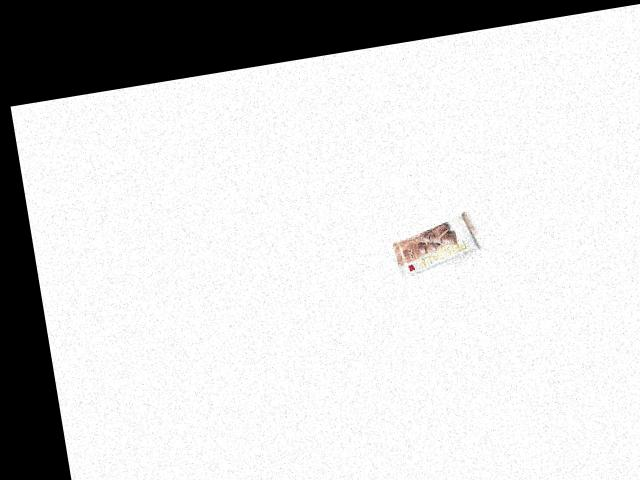chocolate: (388, 204, 479, 284)
